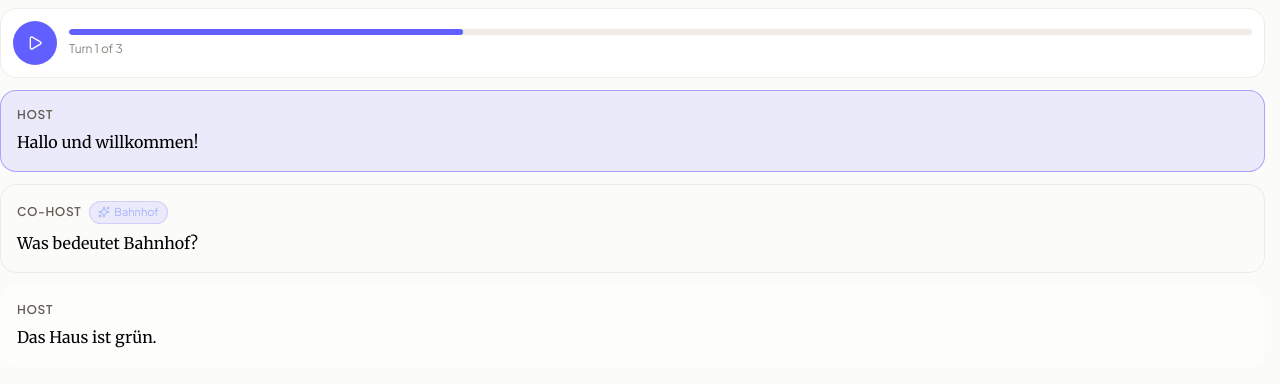
Scenario: PodcastPlayer › lets the learner jump to a turn
Click the button named "play from here".
click(35, 310)  # box 17,302 -> 53,318
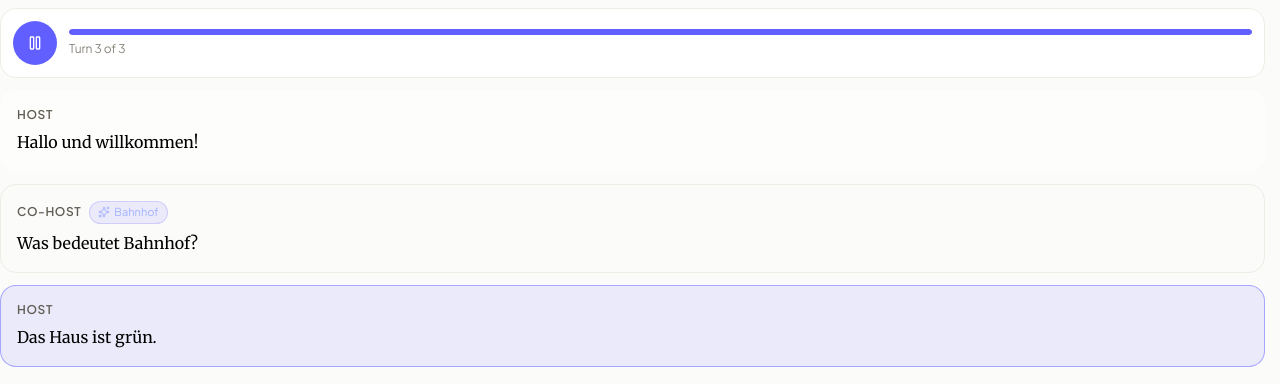
Now the text "Turn 3 of 3" is shown, box 69,41 -> 126,56
